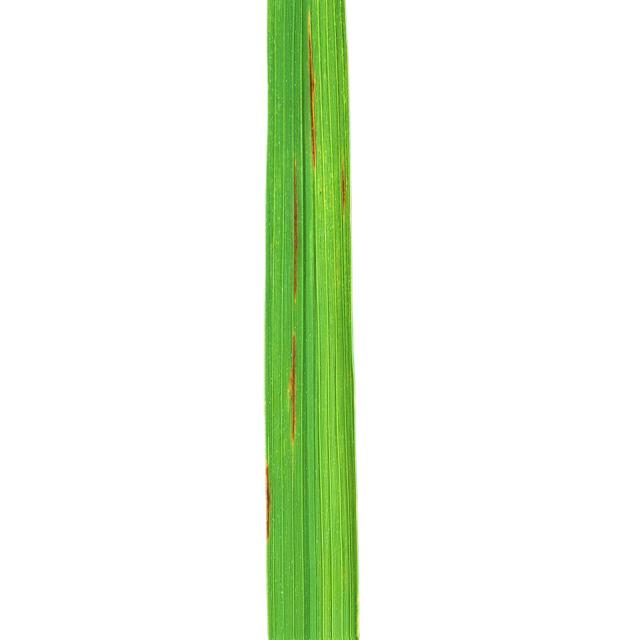Narrow brown: (214, 0, 428, 640)
